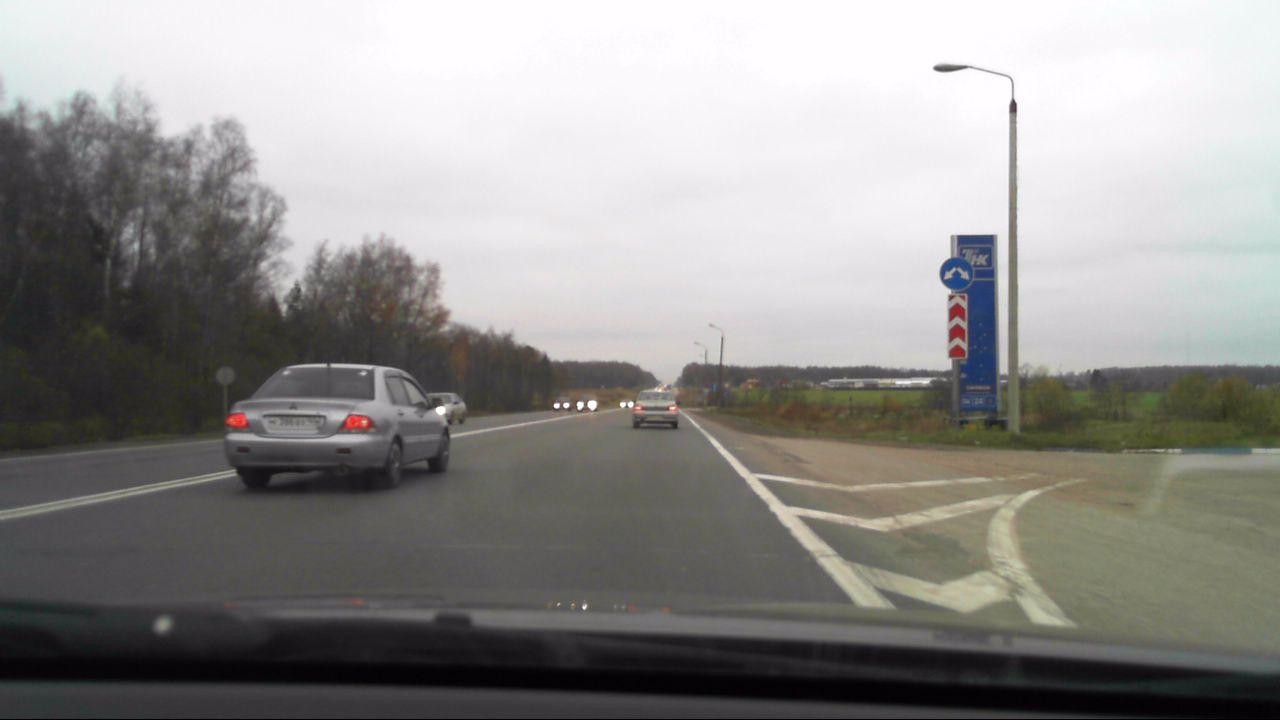4_2_3: (938, 256, 977, 292)
8_22_3: (947, 295, 969, 359)
